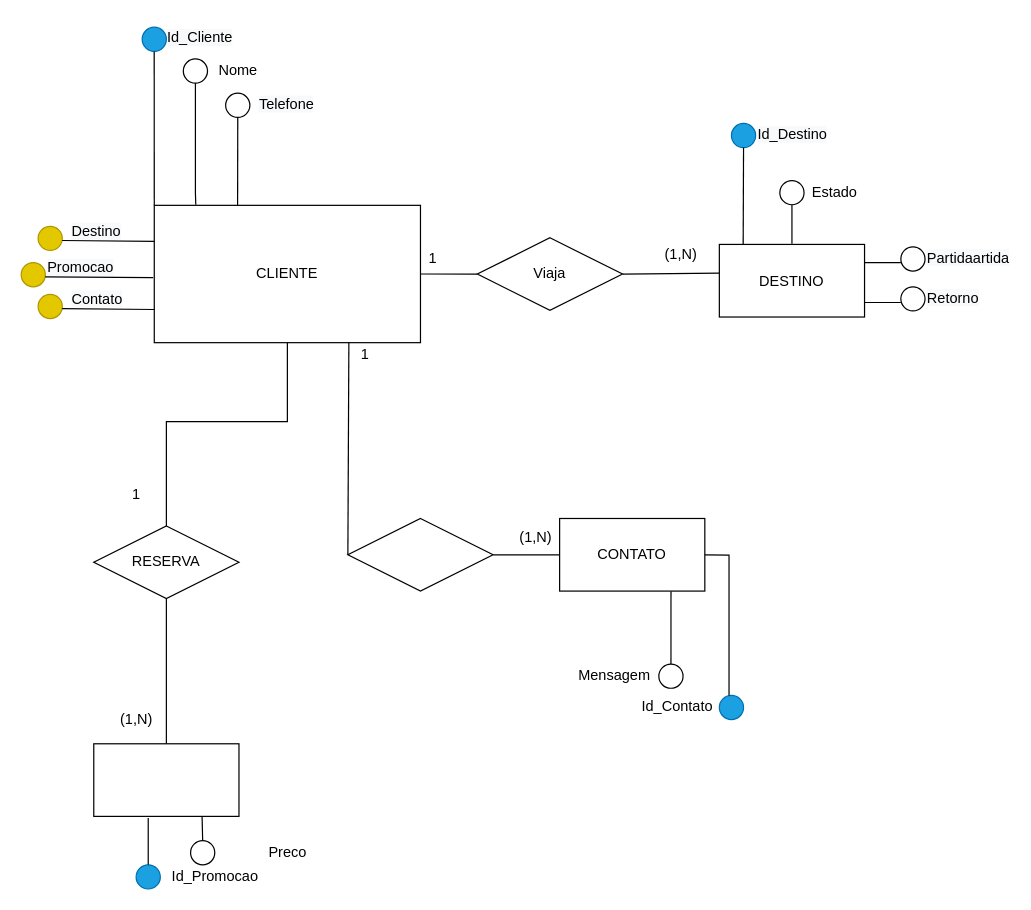
The diagram is 1031 pixels wide and 910 high, and some of its shapes have lost their labels. The centre of each missing label's shape, as x and y in pixels:
Possuir: point 420,554
PROMOÇÃO: point 166,779
